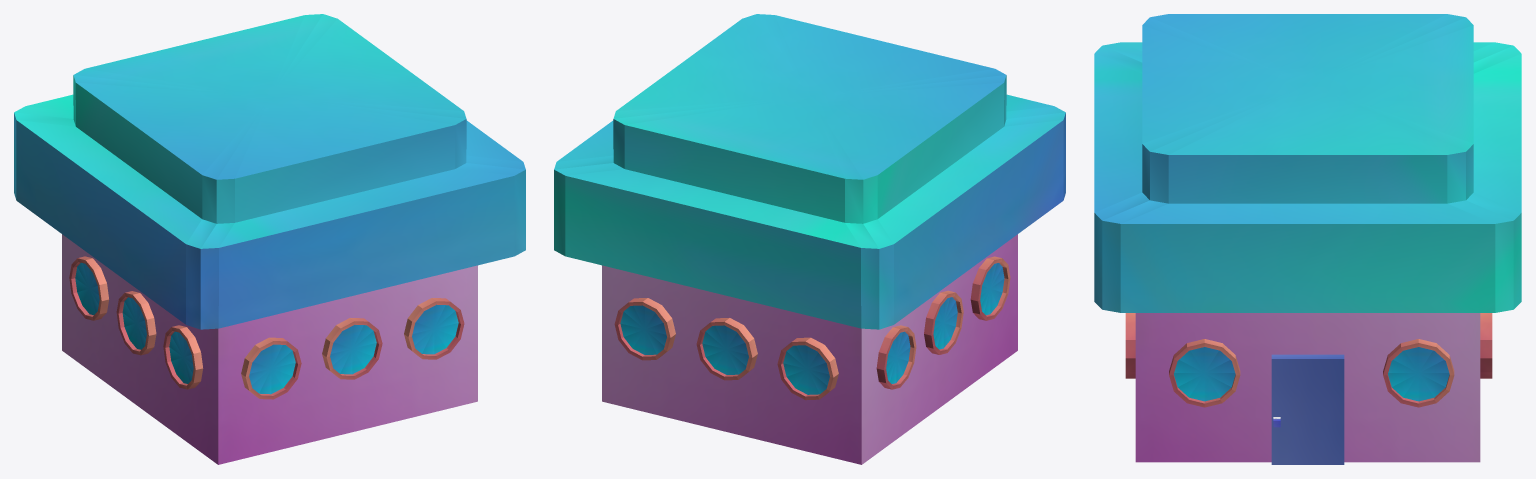
The model's file is House_7.fbx.
3 renders of one model, left to right at view 1: azimuth 30°, elevation 25°; view 2: azimuth 150°, elevation 25°; view 3: azimuth 270°, elevation 25°, orthographic. The views are drawn at different scales.
Parts seen in each view (by area): view 1: House_7; view 2: House_7; view 3: House_7.
Part boxes in pixels (left/top/right/bottom): House_7: left=14, top=14, right=525, bottom=464; House_7: left=554, top=14, right=1065, bottom=464; House_7: left=1094, top=14, right=1521, bottom=464.
Bounding box in the file's own units: 801 × 634 × 796.
Materials: 1 (1 with a texture image).
